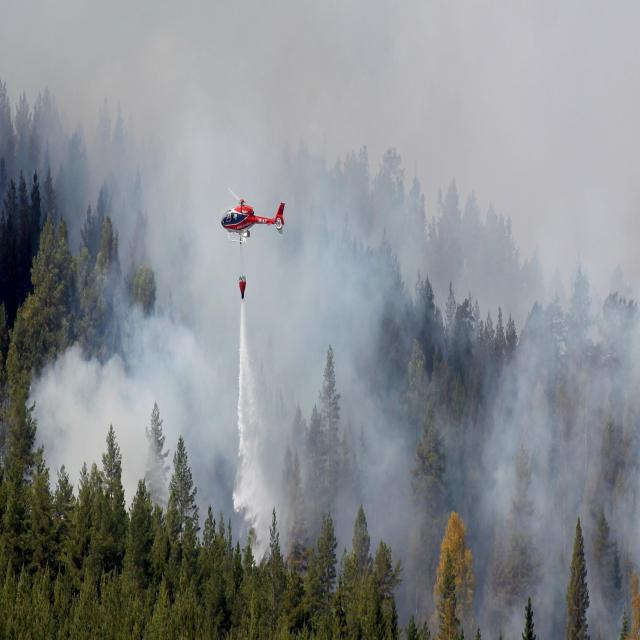smoke: (2, 2, 638, 637)
